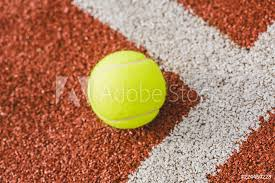tennis_ball: (87, 49, 166, 130)
